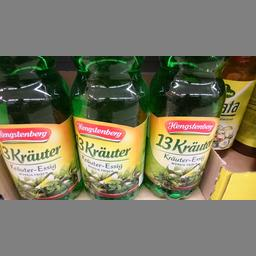vinegar: (0, 56, 80, 198), (70, 56, 150, 198), (146, 54, 224, 198)
